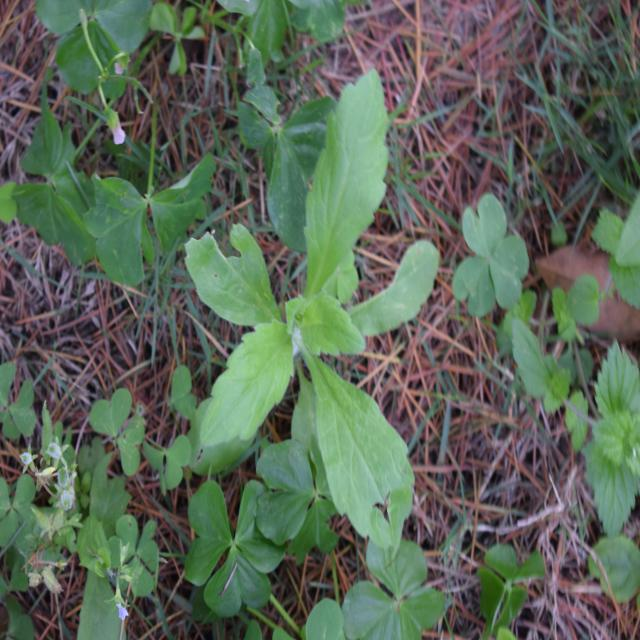horseweed: (208, 86, 455, 523)
